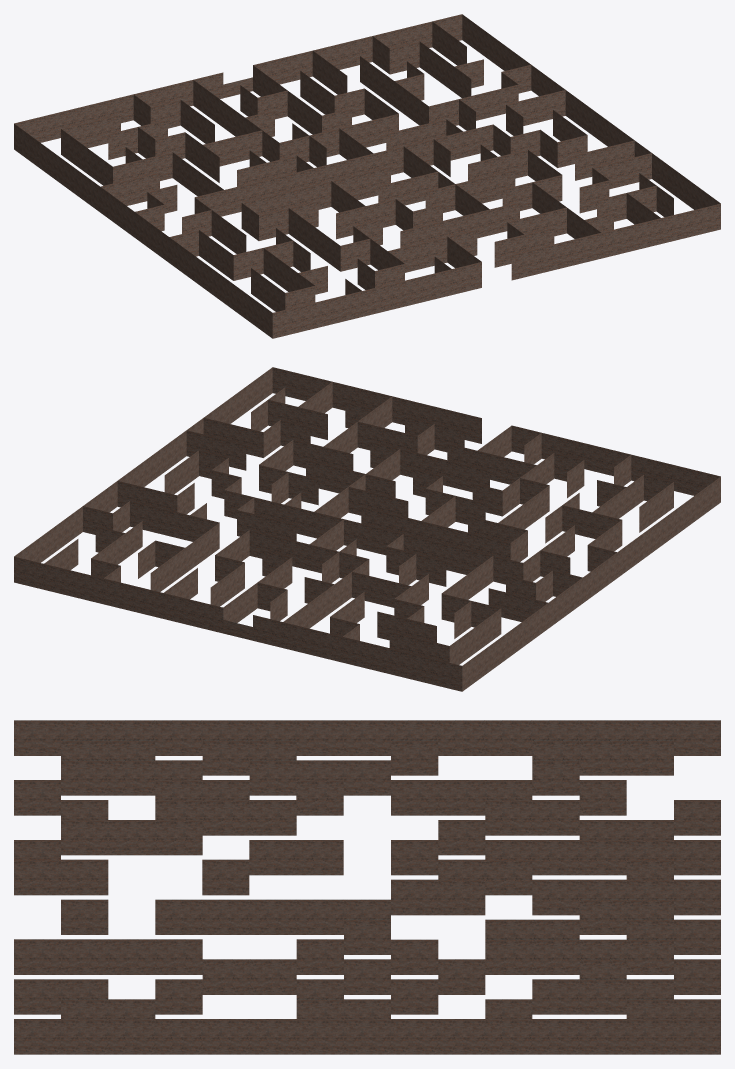
File: maze.glb
3 renders of one model, top to bottom at view 1: azimuth 30°, elevation 25°; view 2: azimuth 150°, elevation 25°; view 3: azimuth 270°, elevation 25°, orthographic. The views are drawn at different scales.
Visible parts, largest first — view 1: wiersz.008, wiersz.006, wiersz.083, wiersz.005, wiersz.003, wiersz.004, wiersz.053, wiersz.095, wiersz.044, wiersz.102, wiersz.009, wiersz.098 (+65 smaller); view 2: wiersz.008, wiersz.003, wiersz.004, wiersz.005, wiersz.006, wiersz.083, wiersz.053, wiersz.095, wiersz.102, wiersz.044, wiersz.033, wiersz.018 (+56 smaller); view 3: wiersz.005, wiersz.008, wiersz.045, wiersz.009, wiersz.106, wiersz.035, wiersz.007, wiersz.028, wiersz.064, wiersz.071, wiersz.061, wiersz.075 (+45 smaller).
Boxes of the visible parts, x1,y1,x2,y2 form: wiersz.008: (14,124,272,338); wiersz.006: (511,203,720,280); wiersz.083: (272,262,481,338); wiersz.005: (462,14,720,209); wiersz.003: (253,14,462,84); wiersz.004: (14,72,223,142); wiersz.053: (195,153,373,216); wiersz.095: (242,166,390,214); wiersz.044: (373,124,493,175); wiersz.102: (400,202,519,247); wiersz.009: (193,80,279,161); wiersz.098: (425,169,515,212); wiersz.008: (462,477,720,691); wiersz.003: (14,556,223,633); wiersz.004: (253,615,462,691); wiersz.005: (14,367,272,562); wiersz.006: (272,367,481,443); wiersz.083: (511,425,720,495); wiersz.053: (344,519,523,584); wiersz.095: (361,506,510,559); wiersz.102: (370,441,489,492); wiersz.044: (224,490,343,538); wiersz.033: (130,500,219,541); wiersz.018: (249,530,338,573); wiersz.005: (14,1019,720,1054); wiersz.008: (14,720,720,755); wiersz.045: (155,899,390,934); wiersz.009: (485,840,720,875); wiersz.106: (14,939,202,974); wiersz.035: (485,939,673,974); wiersz.007: (532,879,720,915); wiersz.028: (532,979,673,1014); wiersz.064: (532,740,673,775); wiersz.071: (249,760,390,795); wiersz.061: (391,780,532,815); wiersz.075: (61,760,202,795).
Bounding box in the file's own units: 72.24 × 4.03 × 72.24.
Materials: 1 (1 with a texture image).
